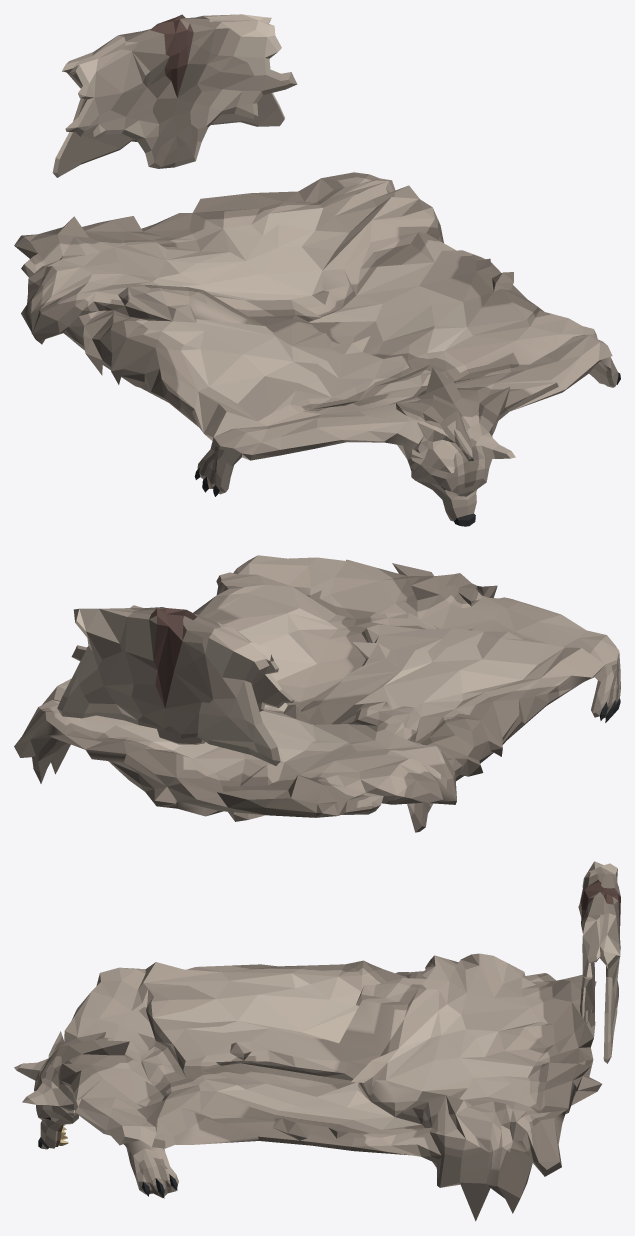
The model's file is SM_Prop_Bed_01_Insert_01.fbx.
3 views of the same model, one above another, from view 1: azimuth 30°, elevation 25°; view 2: azimuth 150°, elevation 25°; view 3: azimuth 270°, elevation 25° (orthographic). The views are drawn at different scales.
Parts seen in each view (by area): view 1: SM_Prop_Bed_01_Insert_01; view 2: SM_Prop_Bed_01_Insert_01; view 3: SM_Prop_Bed_01_Insert_01.
Part boxes in pixels (box(x1,y1,x2,y2)): SM_Prop_Bed_01_Insert_01: box(14, 14, 620, 526); SM_Prop_Bed_01_Insert_01: box(14, 555, 620, 832); SM_Prop_Bed_01_Insert_01: box(14, 861, 620, 1221).
Size of the model in its own units: 215 by 139 by 289.
